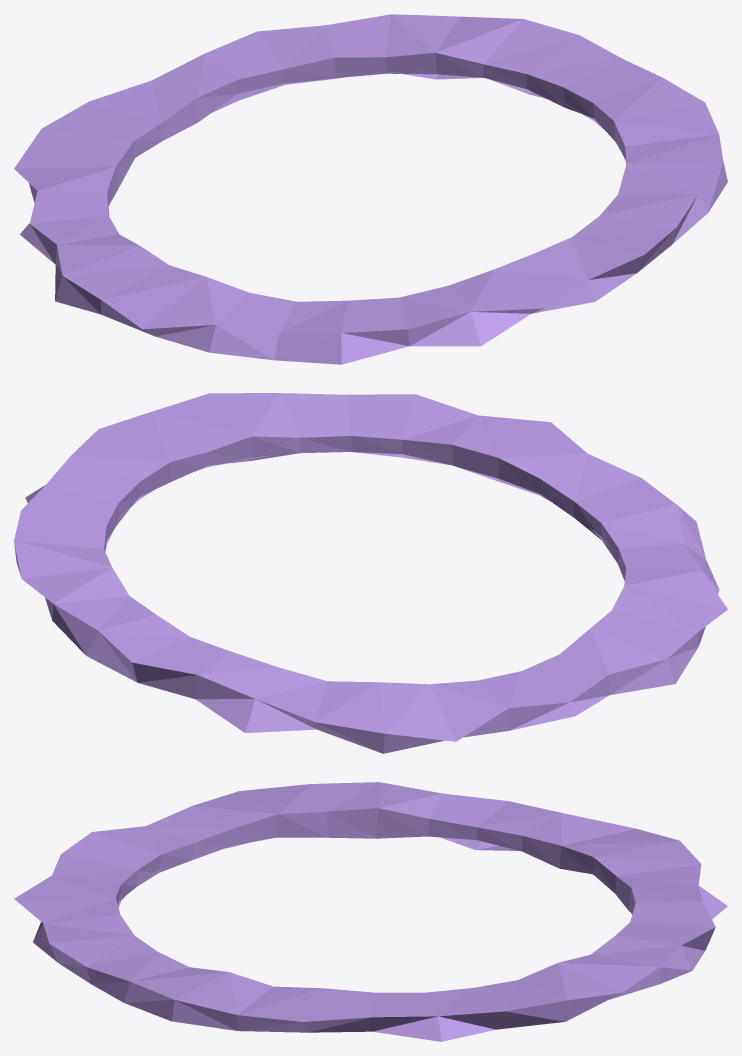
Rendered from ringOne.fbx.
3 renders of one model, top to bottom at view 1: azimuth 30°, elevation 25°; view 2: azimuth 150°, elevation 25°; view 3: azimuth 270°, elevation 25°, orthographic.
Visible parts, largest first — view 1: Cylinder.003; view 2: Cylinder.003; view 3: Cylinder.003.
Boxes of the visible parts, x1,y1,x2,y2 form: Cylinder.003: (14, 14, 727, 364); Cylinder.003: (14, 393, 727, 753); Cylinder.003: (14, 782, 727, 1041).
Bounding box in the file's own units: 2719 × 330 × 2743.
